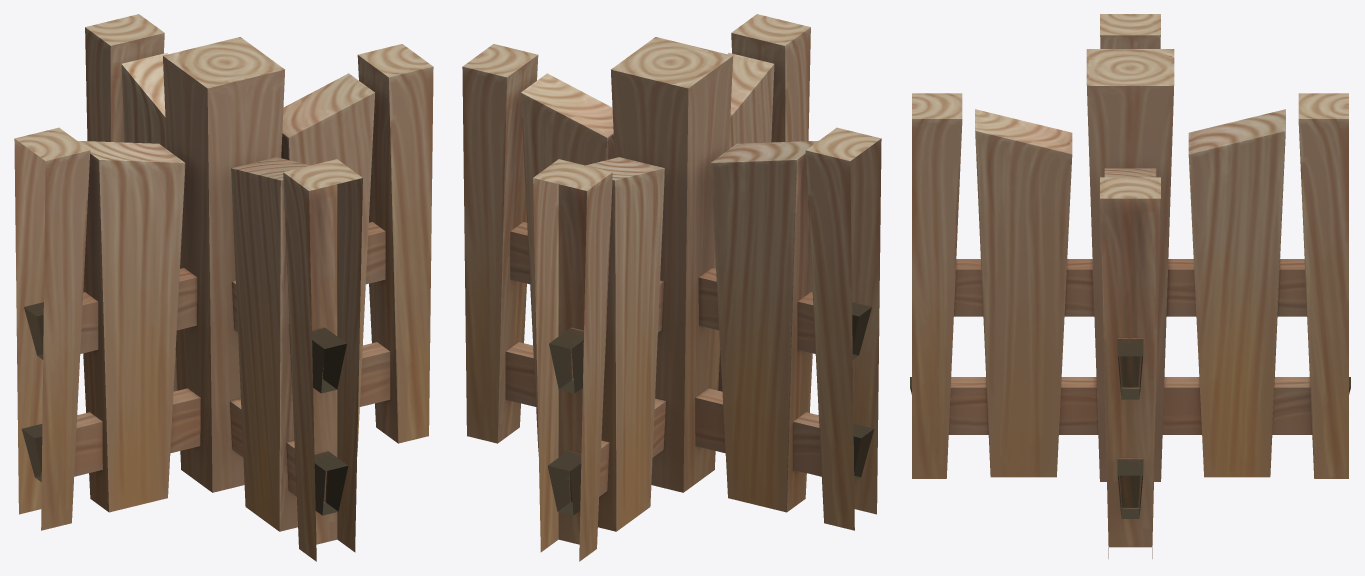
File: fence2_corner4.FBX
3 views of the same model, side by side, from view 1: azimuth 30°, elevation 25°; view 2: azimuth 150°, elevation 25°; view 3: azimuth 270°, elevation 25° (orthographic). The views are drawn at different scales.
Visible parts, largest first — view 1: fence2_corner4; view 2: fence2_corner4; view 3: fence2_corner4.
Boxes of the visible parts, x1,y1,x2,y2 form: fence2_corner4: (14, 14, 433, 561); fence2_corner4: (462, 14, 881, 561); fence2_corner4: (910, 14, 1350, 558).
Size of the model in its own units: 50.49 by 50.83 by 50.49.
Materials: 1 (1 with a texture image).
